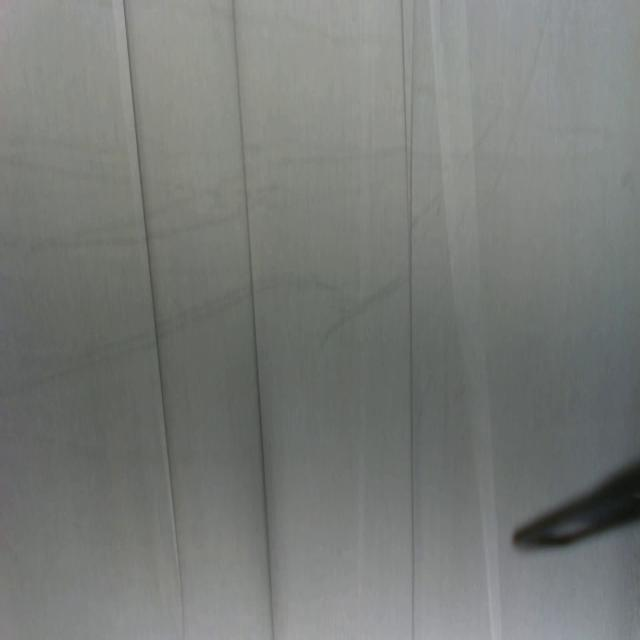crease: (428, 2, 501, 640), (114, 1, 185, 640), (231, 1, 275, 640), (400, 1, 420, 639)
